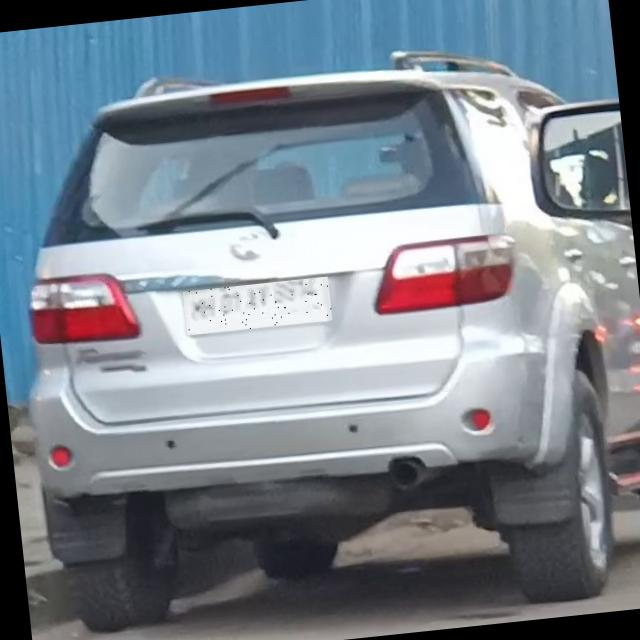Plate: (183, 277, 333, 336)
